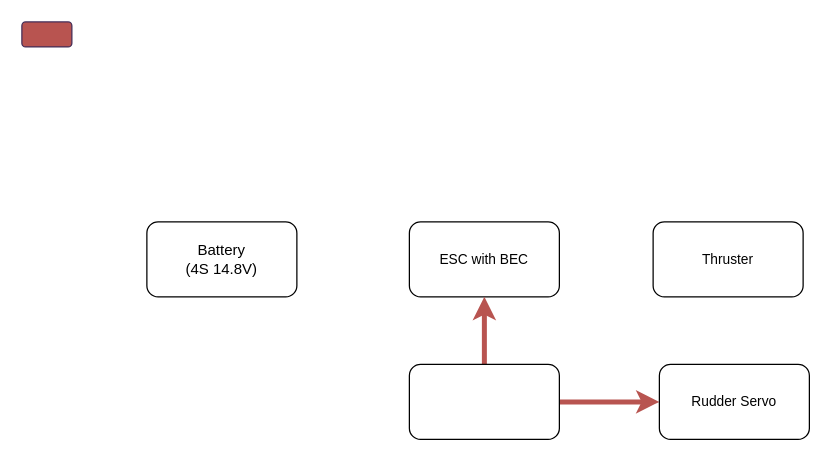
Some shapes in this 831 by 461 pixel diagram are drawn without their labels. Each missing label, with the box of its shape:
PWM: (21, 21, 72, 47)
Radiolink R6F Receiver: (408, 363, 559, 439)
